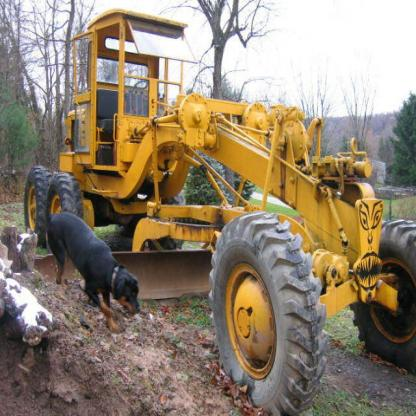bull_dozer/loader/grader: (15, 10, 415, 408)
